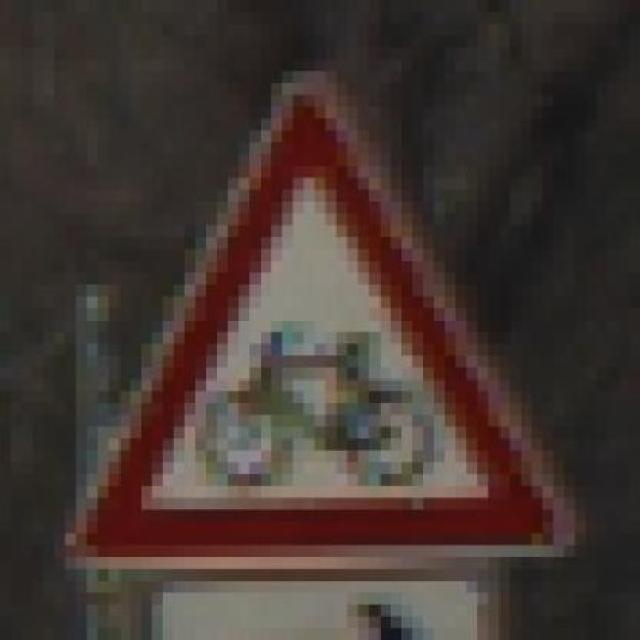CYCLE ROUTE AHEAD WARNING: (54, 48, 586, 569)
